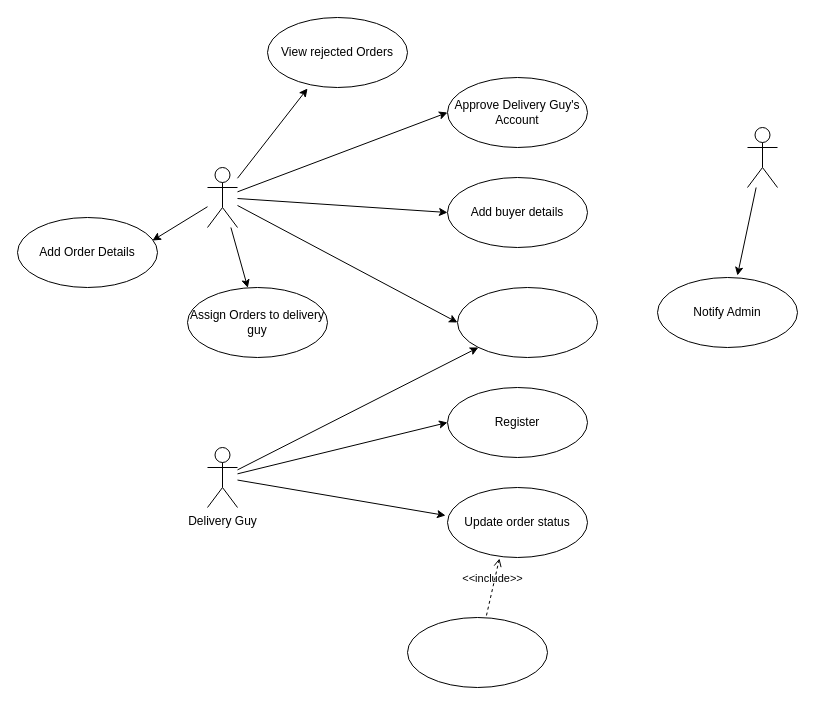
This 831x705 diagram has some shape labels left out. The shapes that lost their labels are listed below. From the top down, each one's box as (x1, y1, x2, y2) in pixels, then its label:
(746, 126, 778, 188): Notification Service
(206, 166, 238, 228): Admin
(456, 286, 598, 358): Login
(406, 616, 548, 688): View Assigned Order
